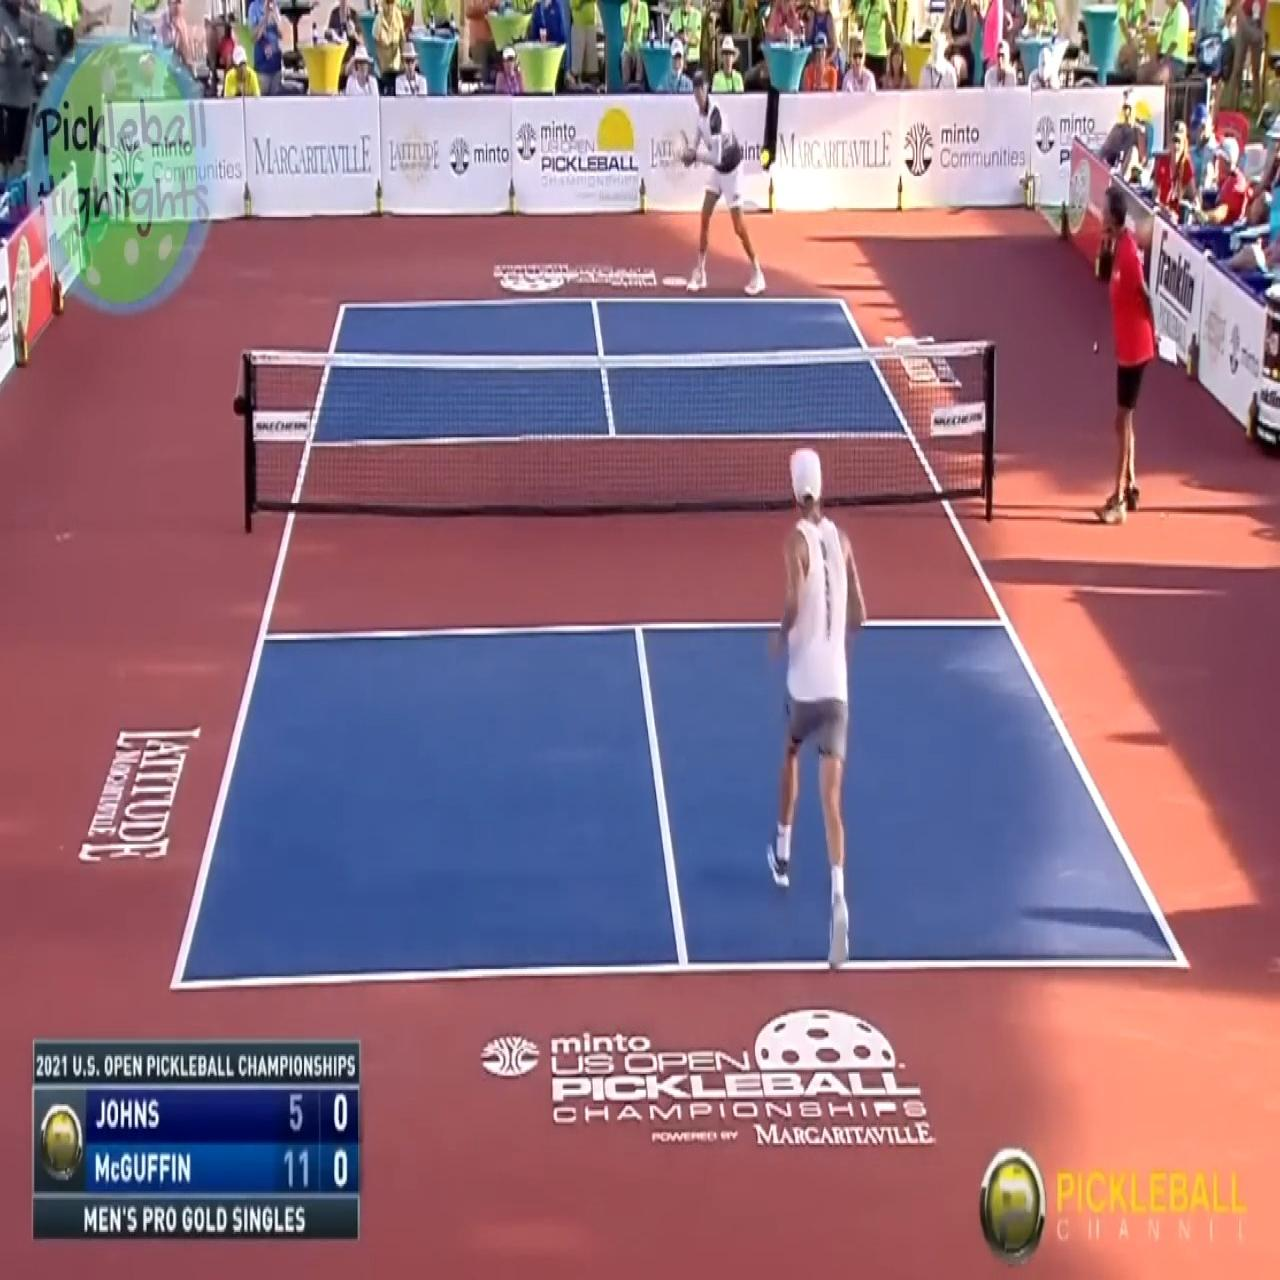pickleball: (760, 148, 771, 169)
